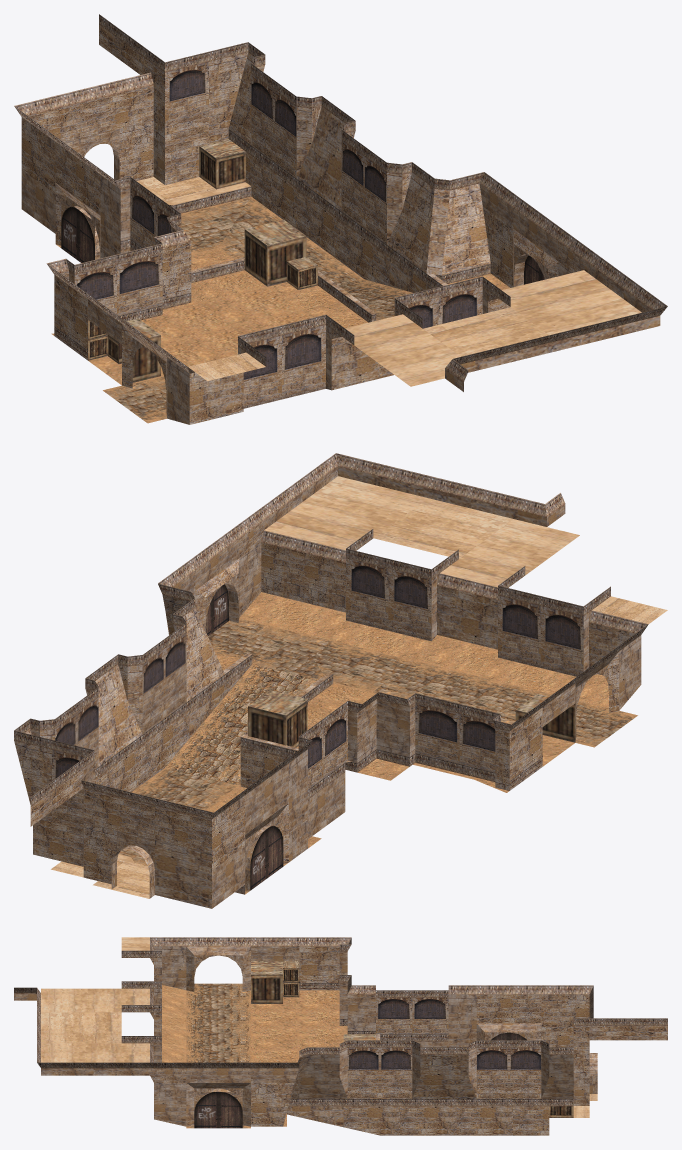
Rendered from 256DustParts0.fbx.
3 renders of one model, top to bottom at view 1: azimuth 30°, elevation 25°; view 2: azimuth 150°, elevation 25°; view 3: azimuth 270°, elevation 25°, orthographic. The views are drawn at different scales.
Parts seen in each view (by area): view 1: Trigger0; view 2: Trigger0; view 3: Trigger0.
Boxes of the visible parts, left/top/right/bottom form: Trigger0: left=14, top=14, right=667, bottom=424; Trigger0: left=14, top=453, right=667, bottom=908; Trigger0: left=14, top=937, right=667, bottom=1135.
Size of the model in its own units: 34.3 by 10.49 by 65.41.
Materials: 1 (1 with a texture image).
